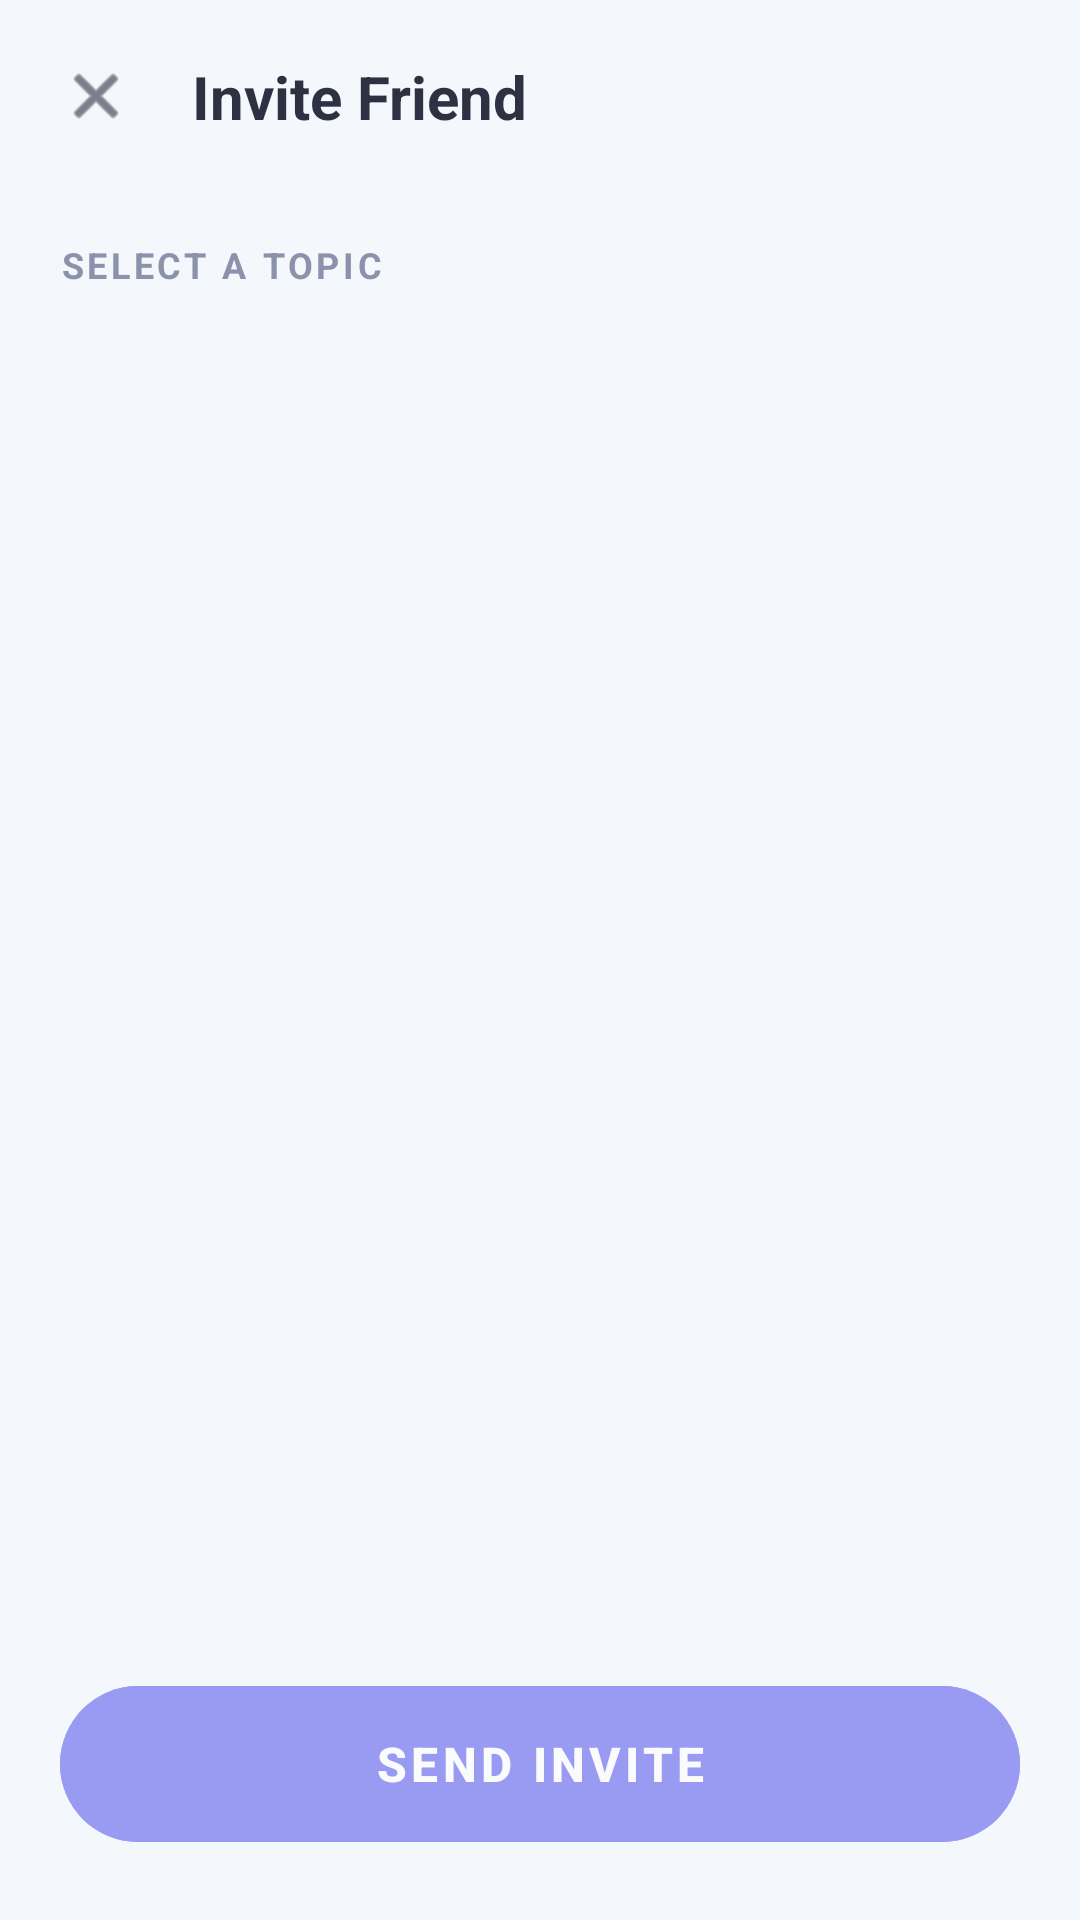

Where icons sit on this 1080×1920 app screen, as (x1, y1, x2, y2):
close clear cancel: (74, 74, 118, 118)
